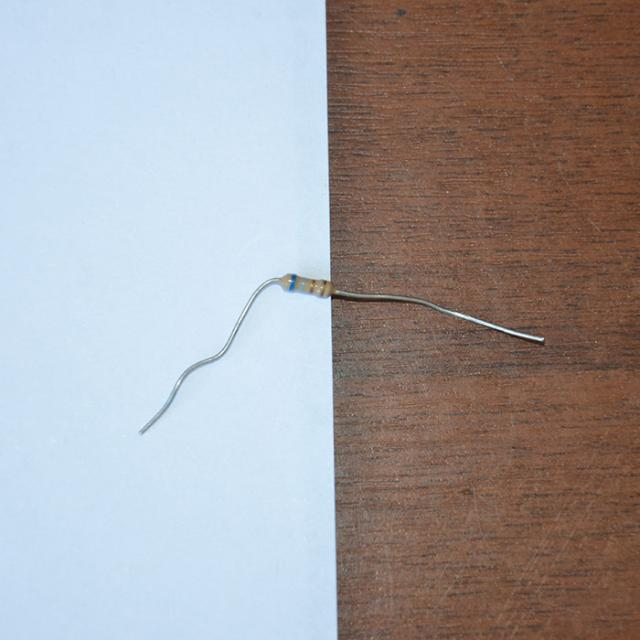blue: (290, 274, 297, 289)
gold: (319, 280, 327, 295), (310, 280, 316, 292)
grey: (299, 277, 307, 290)
resistor: (282, 267, 338, 307)
